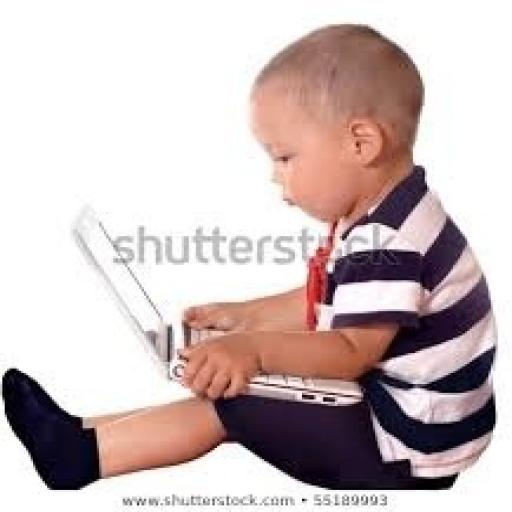using_laptop: (68, 201, 368, 408)
